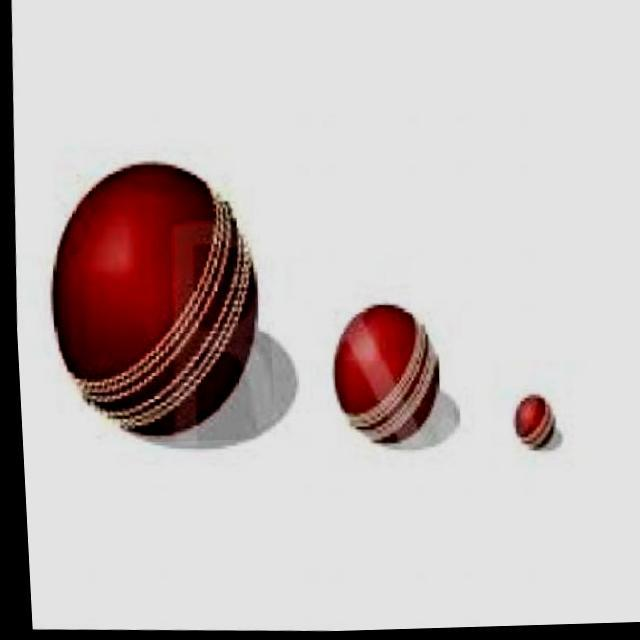Red_Ball: (28, 168, 283, 440), (316, 298, 448, 455), (510, 390, 563, 453)
